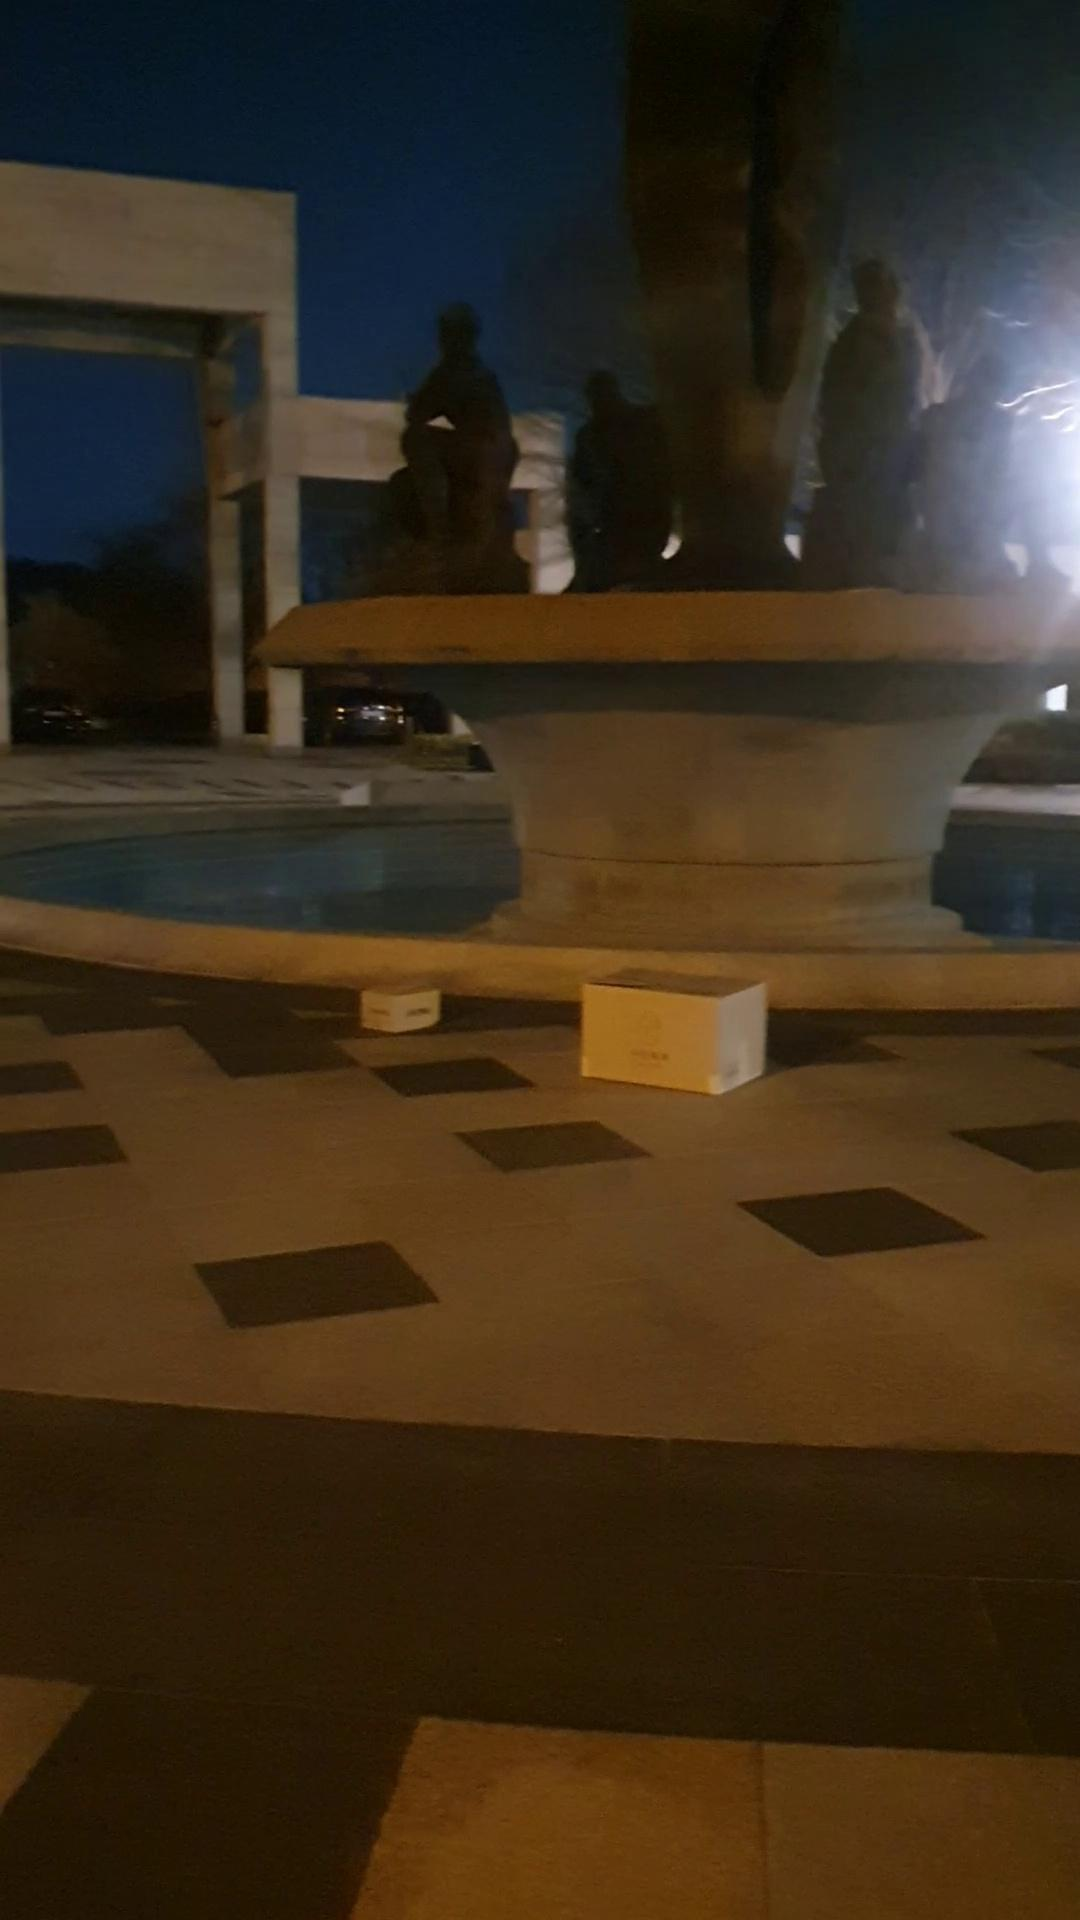Box: (578, 960, 787, 1110), (361, 978, 458, 1043)
